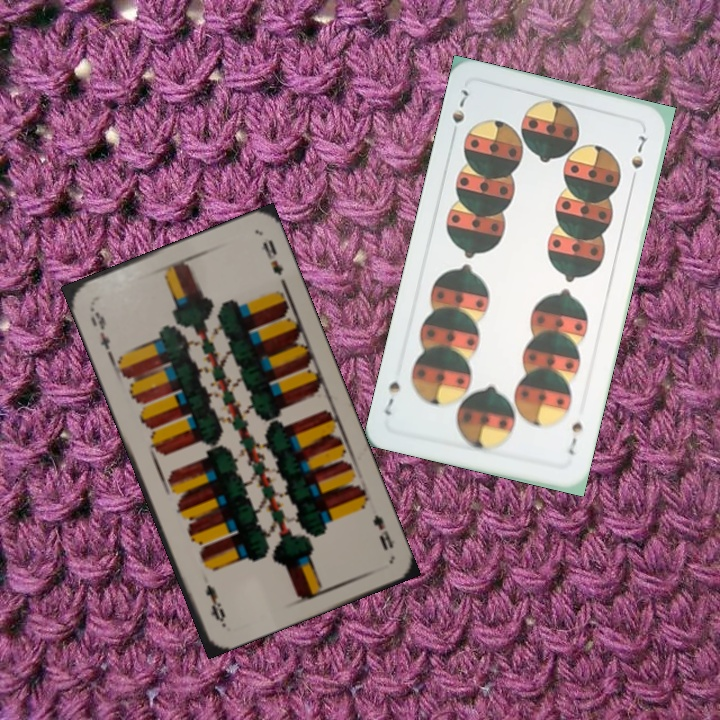E9: (85, 302, 115, 358), (369, 510, 398, 554)
S7: (448, 85, 471, 126), (564, 417, 585, 458)
